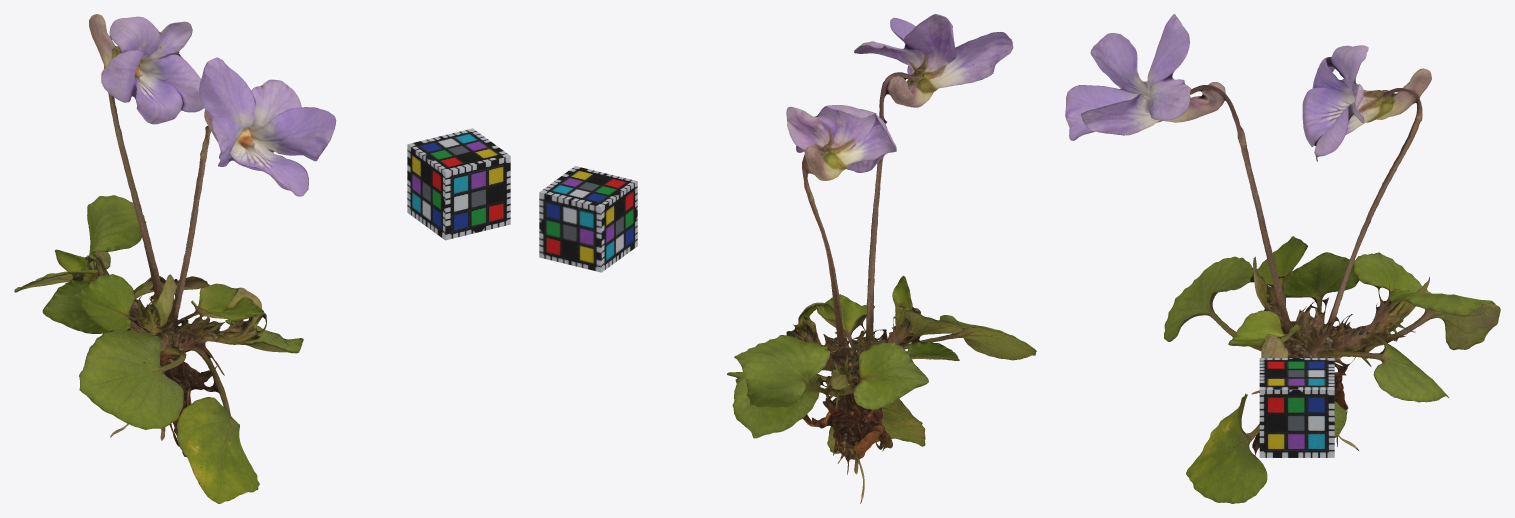
Rendered from cc0__kotachitsubo__violet.glb.
3 renders of one model, left to right at view 1: azimuth 30°, elevation 25°; view 2: azimuth 150°, elevation 25°; view 3: azimuth 270°, elevation 25°, orthographic. The views are drawn at different scales.
Visible parts, largest first — view 1: QS1676-E0-W02-1-1_1, _Cube_0; view 2: QS1676-E0-W02-1-1_1, _Cube_0; view 3: QS1676-E0-W02-1-1_1, _Cube_0.
Part boxes in pixels (x1,y1,x2,y2): QS1676-E0-W02-1-1_1: (14, 14, 336, 503); _Cube_0: (407, 128, 510, 240); QS1676-E0-W02-1-1_1: (727, 14, 1036, 503); _Cube_0: (539, 166, 637, 272); QS1676-E0-W02-1-1_1: (1065, 14, 1500, 503); _Cube_0: (1259, 358, 1334, 457).
Bounding box in the file's own units: 0.0699 × 0.0668 × 0.058.
2 materials, 2 textured.
